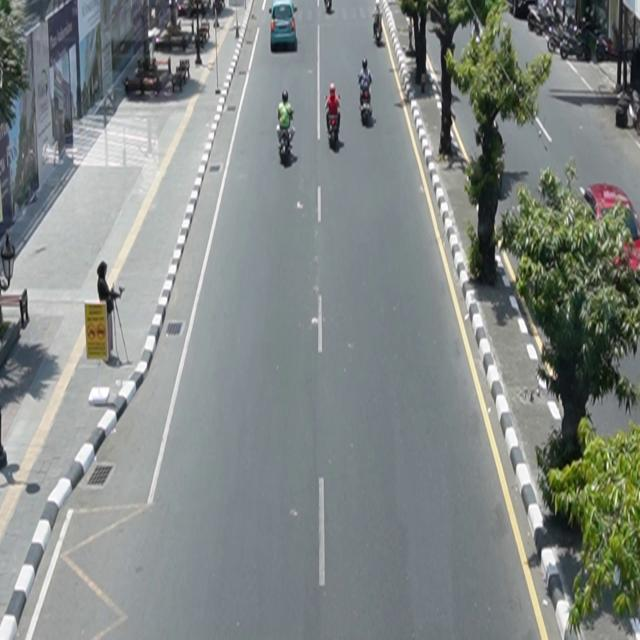car: (580, 183, 640, 283), (270, 1, 298, 53)
